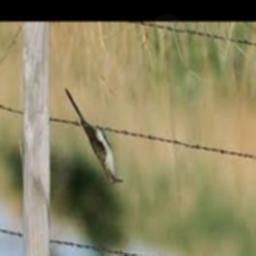Cuckoo: (66, 88, 125, 185)
